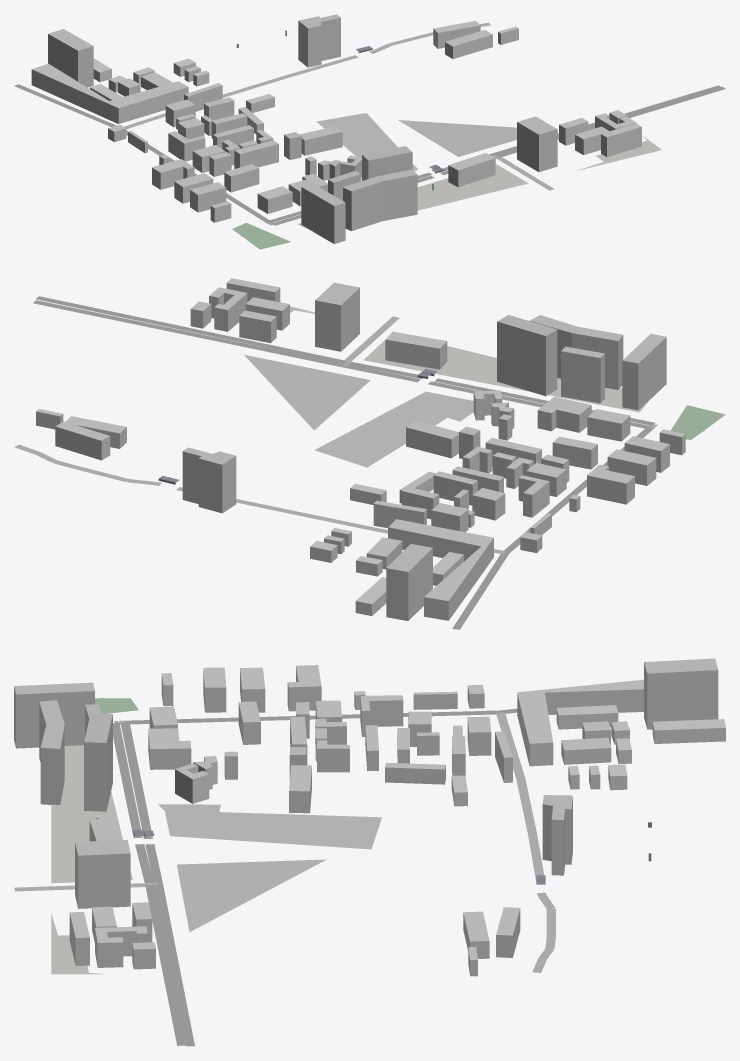
The picture shows the model from 3 angles, top to bottom: view 1: azimuth 30°, elevation 25°; view 2: azimuth 150°, elevation 25°; view 3: azimuth 270°, elevation 25°; orthographic projection. The views are drawn at different scales.
Size of the model in its own units: 654 by 59.9 by 541.
